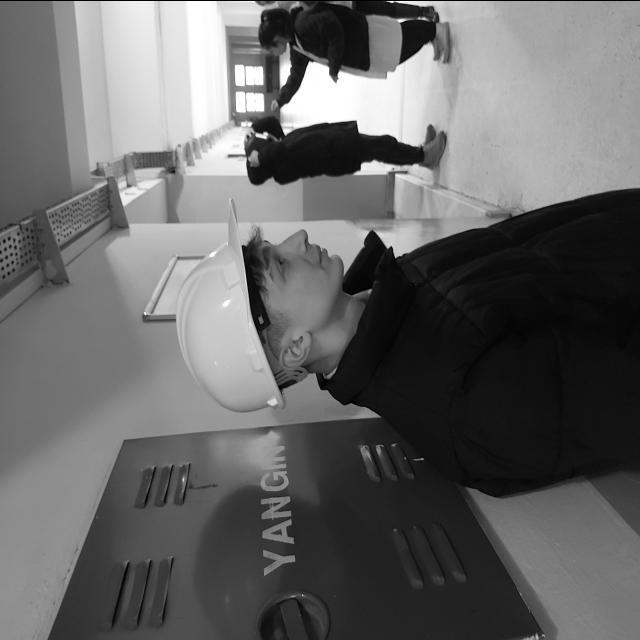safety_helmet: (177, 197, 286, 414)
